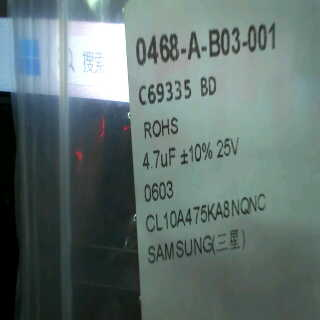4.7uF: (138, 144, 179, 178)
